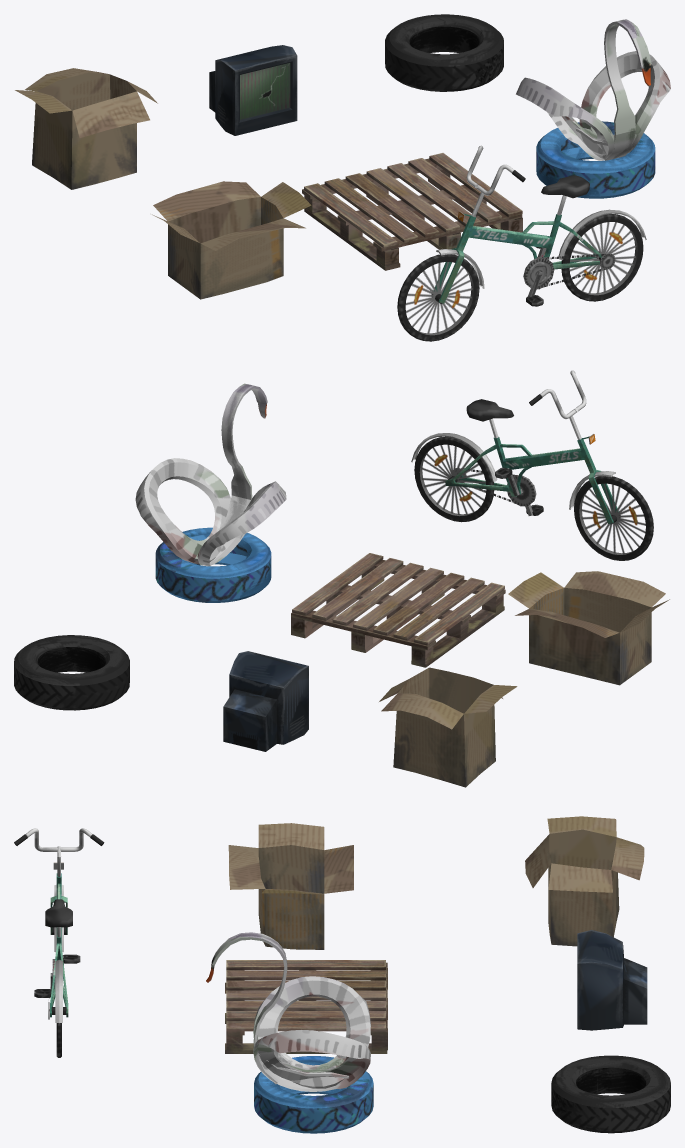
File: assets.glb
3 views of the same model, one above another, from view 1: azimuth 30°, elevation 25°; view 2: azimuth 150°, elevation 25°; view 3: azimuth 270°, elevation 25° (orthographic). The views are drawn at different scales.
Visible parts, largest first — view 1: Cube.004, Cube.015, Cylinder.014, box.002, box.001, Cylinder.011, Cube.008; view 2: Cylinder.014, Cube.015, Cube.004, box.002, box.001, Cylinder.011, Cube.008; view 3: Cylinder.014, box.002, box.001, Cube.015, Cylinder.011, Cube.008, Cube.004.
Boxes of the visible parts, left/top/right/bottom form: Cube.004: left=397, top=145, right=646, bottom=341; Cube.015: left=302, top=153, right=522, bottom=270; Cylinder.014: left=516, top=19, right=670, bottom=198; box.002: left=152, top=181, right=311, bottom=299; box.001: left=15, top=68, right=157, bottom=189; Cylinder.011: left=385, top=14, right=503, bottom=91; Cube.008: left=209, top=45, right=297, bottom=135; Cylinder.014: left=135, top=383, right=286, bottom=602; Cube.015: left=291, top=553, right=505, bottom=667; Cube.004: left=411, top=370, right=653, bottom=560; box.002: left=508, top=571, right=669, bottom=685; box.001: left=379, top=667, right=517, bottom=787; Cylinder.011: left=14, top=635, right=129, bottom=710; Cube.008: left=223, top=651, right=308, bottom=751; Cylinder.014: left=206, top=932, right=373, bottom=1133; box.002: left=228, top=823, right=353, bottom=949; box.001: left=525, top=816, right=644, bottom=946; Cube.015: left=225, top=960, right=387, bottom=1053; Cylinder.011: left=551, top=1055, right=670, bottom=1133; Cube.008: left=577, top=929, right=647, bottom=1030; Cube.004: left=14, top=828, right=104, bottom=1057.
Size of the model in its own units: 3.45 by 1.15 by 3.85.
Materials: 1 (1 with a texture image).
